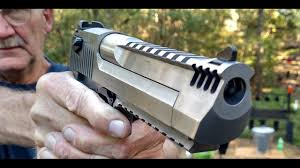Gun: (92, 28, 245, 128)
